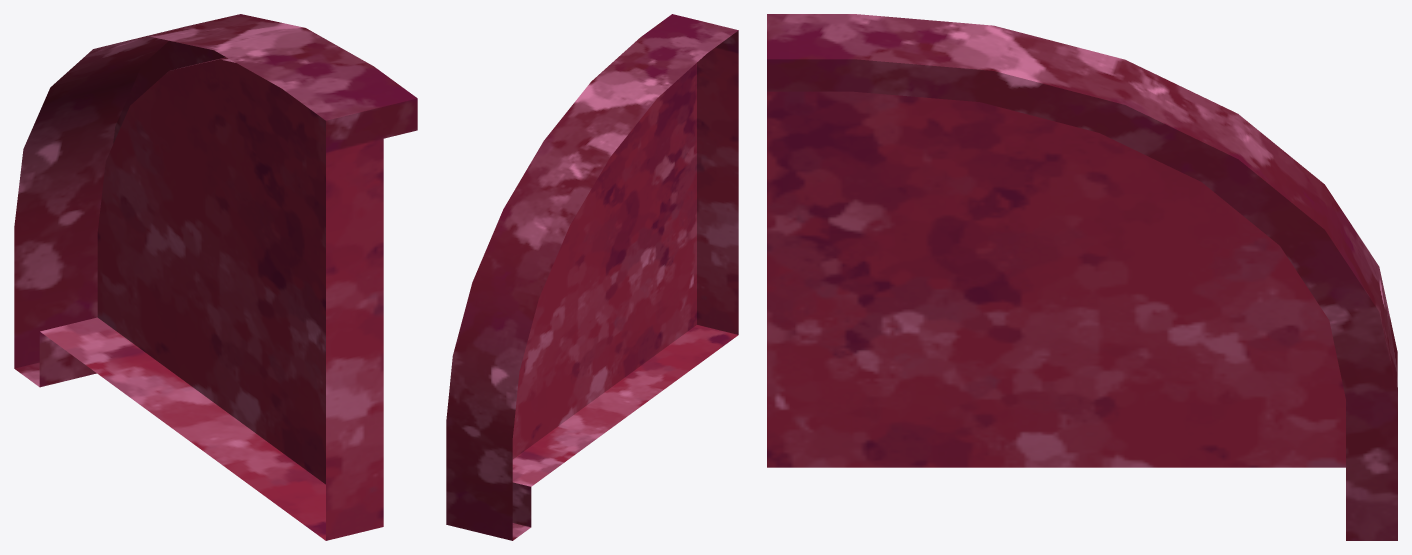
File: techo final 2.fbx
The picture shows the model from 3 angles, left to right: view 1: azimuth 30°, elevation 25°; view 2: azimuth 150°, elevation 25°; view 3: azimuth 270°, elevation 25°; orthographic projection. The views are drawn at different scales.
Parts seen in each view (by area): view 1: Cube.119; view 2: Cube.119; view 3: Cube.119.
Boxes of the visible parts, x1=… form: Cube.119: x1=14, y1=14, x2=417, y2=540; Cube.119: x1=446, y1=14, x2=738, y2=540; Cube.119: x1=767, y1=14, x2=1397, y2=540.
Bounding box in the file's own units: 42.92 × 213 × 252.
